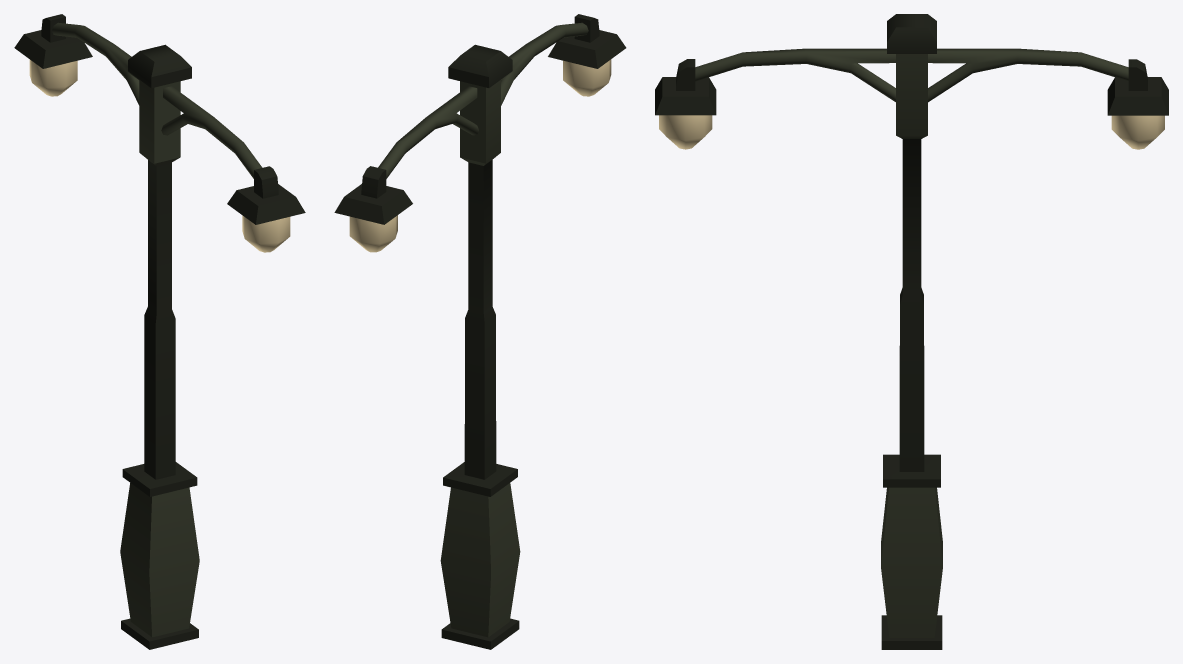
File: StreetLamp_1.FBX
The picture shows the model from 3 angles, left to right: view 1: azimuth 30°, elevation 25°; view 2: azimuth 150°, elevation 25°; view 3: azimuth 270°, elevation 25°; orthographic projection. The views are drawn at different scales.
Visible parts, largest first — view 1: Box002; view 2: Box002; view 3: Box002.
Boxes of the visible parts, x1,y1,x2,y2 form: Box002: [14, 14, 305, 649]; Box002: [334, 14, 626, 649]; Box002: [655, 14, 1168, 649].
Bounding box in the file's own units: 40.06 × 440 × 332.
